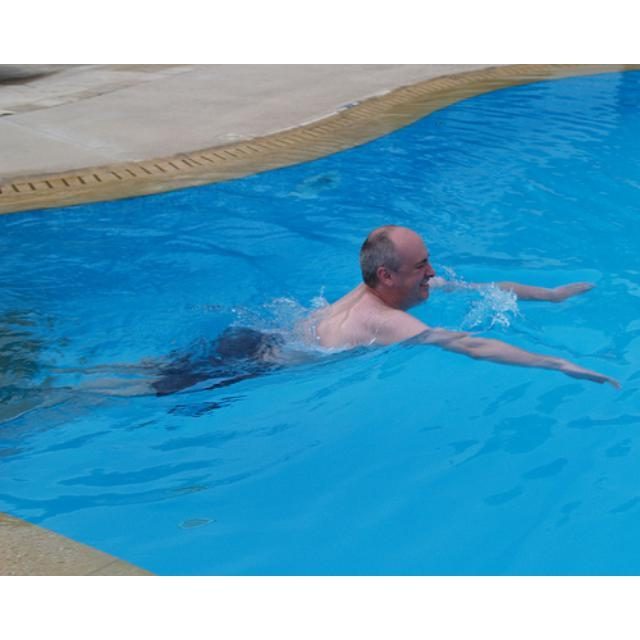human: (217, 228, 612, 386)
